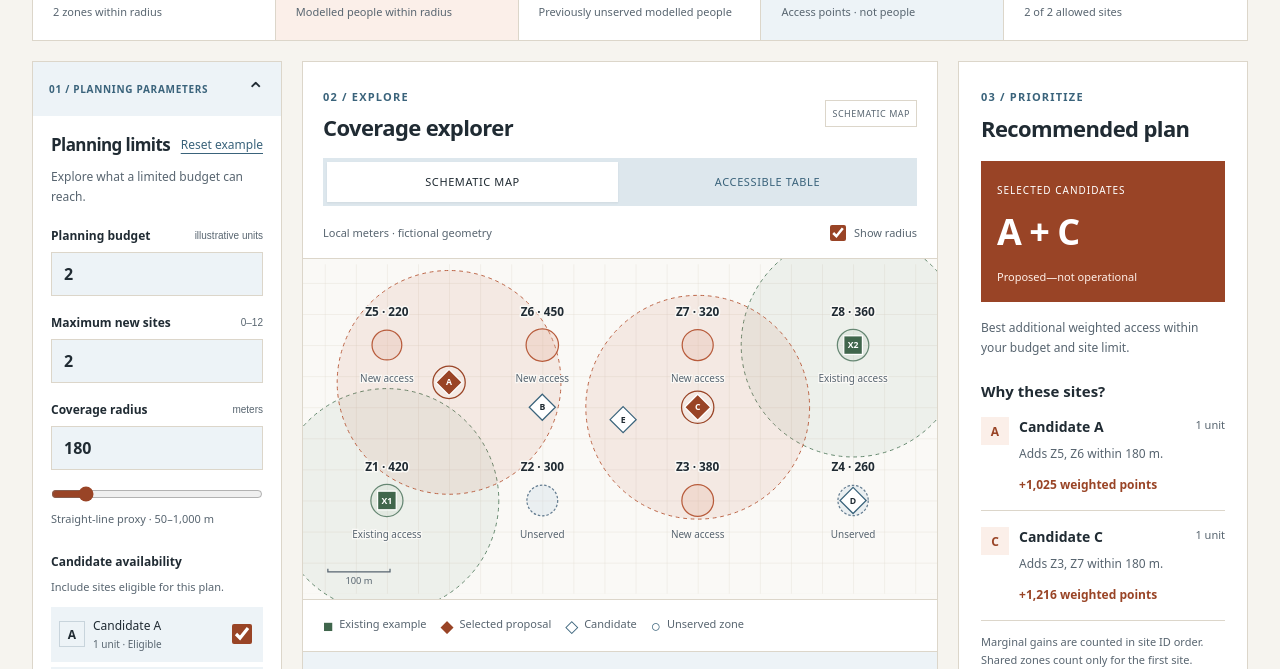
Scenario: changes radius and cap and handles no additional feasible access
This screenshot has width=1280, height=669.
(page scrolled)
Expected: the text "A + C" is shown, [997,207,1079,256]
Clear the number field labelled "Maximum new sites 0–12": coordinates (157, 361) [51,339,263,383]
(page scrolled)
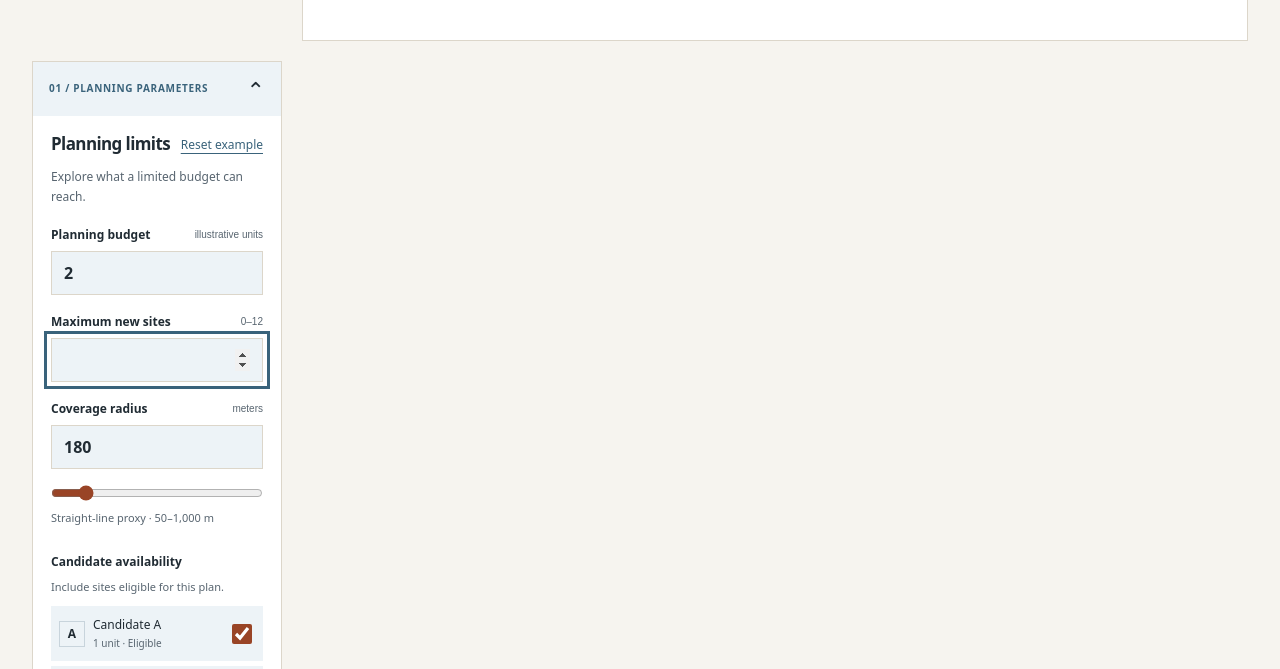
In the number field labelled "Maximum new sites 0–12": coordinates (157, 360) [51,338,263,382], type "0"
(page scrolled)
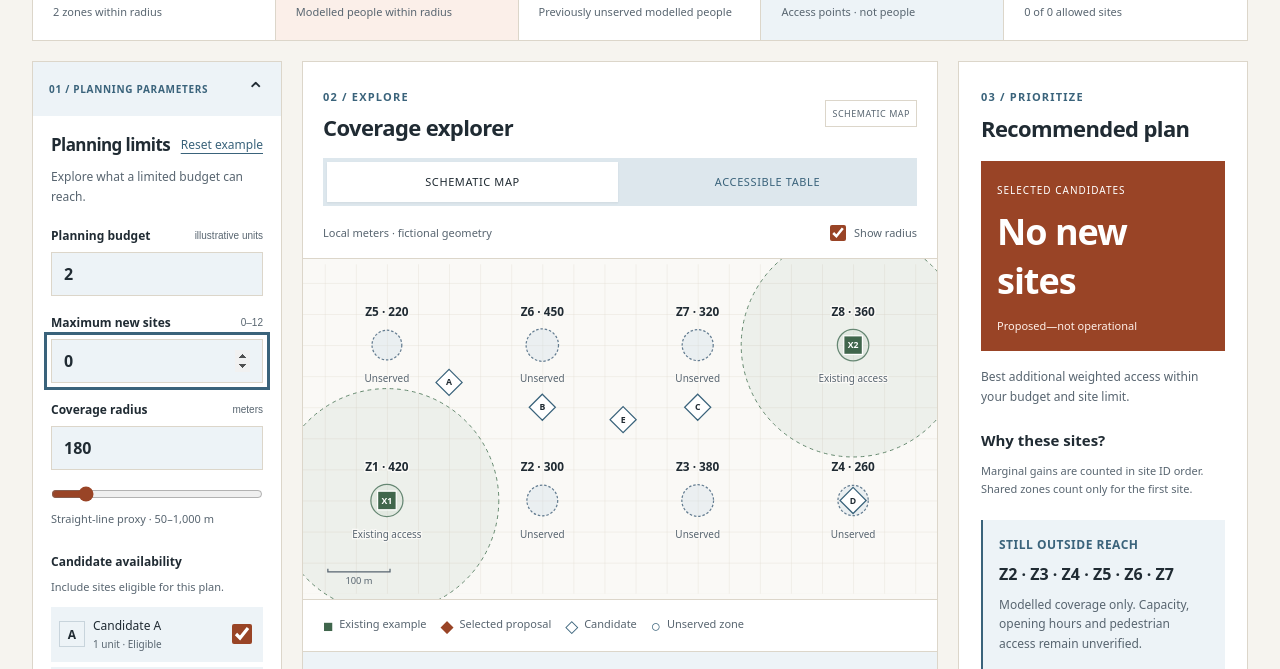
Expected: the text with test id "selected-sites" reads "No new sites", [997,207,1127,305]
Clear the number field labelled "Coverage radius meters": coordinates (157, 448) [51,426,263,470]
(page scrolled)
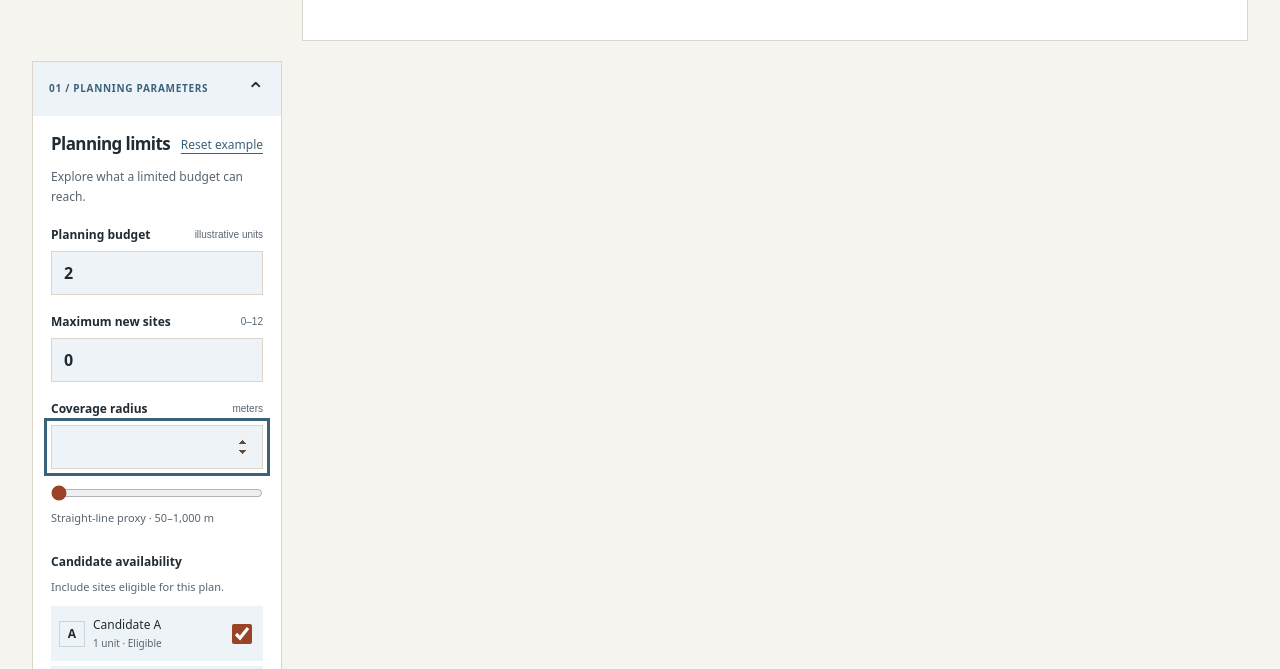
In the number field labelled "Coverage radius meters": coordinates (157, 447) [51,425,263,469], type "1000"
(page scrolled)
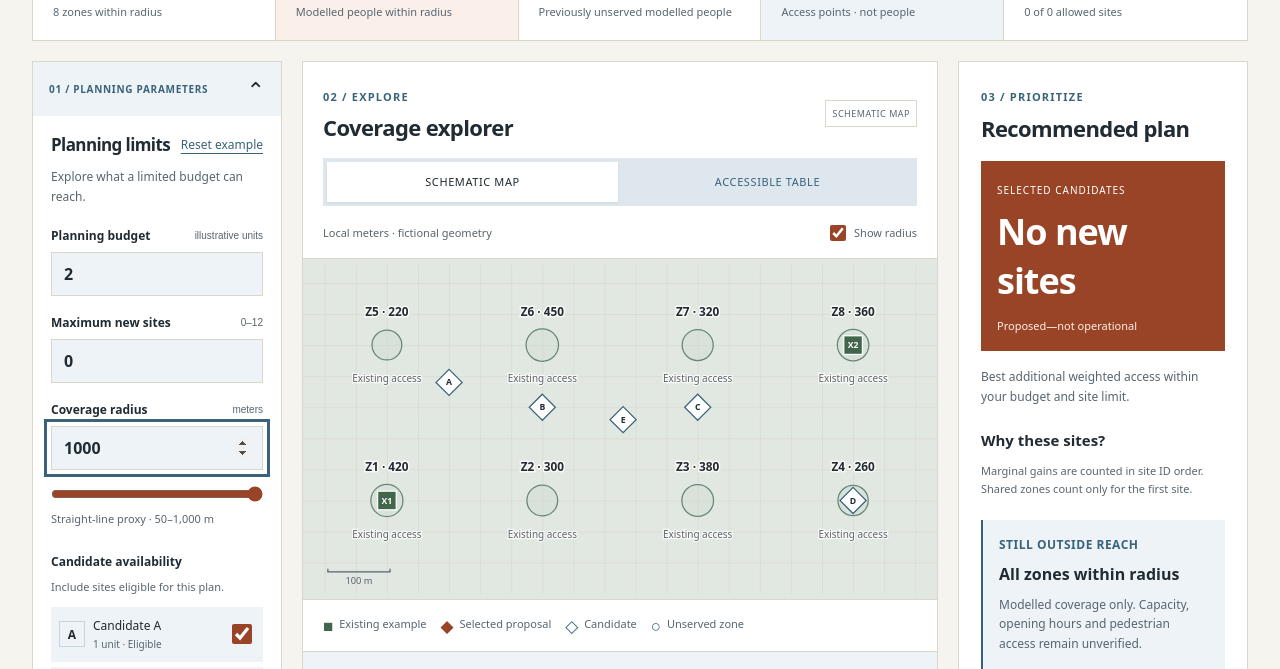
Expected: the text "All zones within radius" is shown, [999,563,1209,585]
